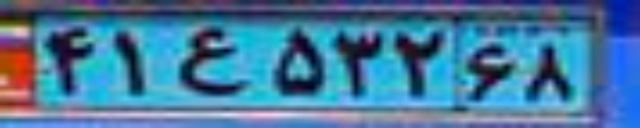1: (109, 29, 148, 95)
2: (394, 28, 445, 97)
3: (331, 28, 383, 98)
4: (43, 26, 93, 95)
5: (269, 25, 324, 95)
6: (466, 43, 512, 102)
8: (523, 44, 576, 104)
ain: (173, 28, 244, 95)
